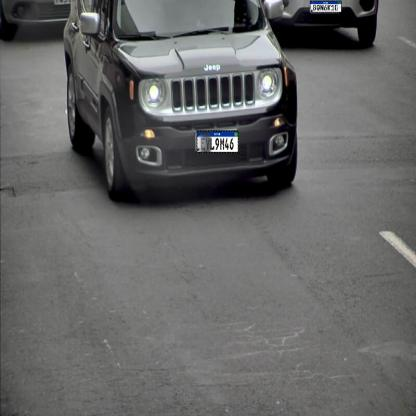PlacaM: (196, 130, 238, 154), (310, 0, 342, 12)
